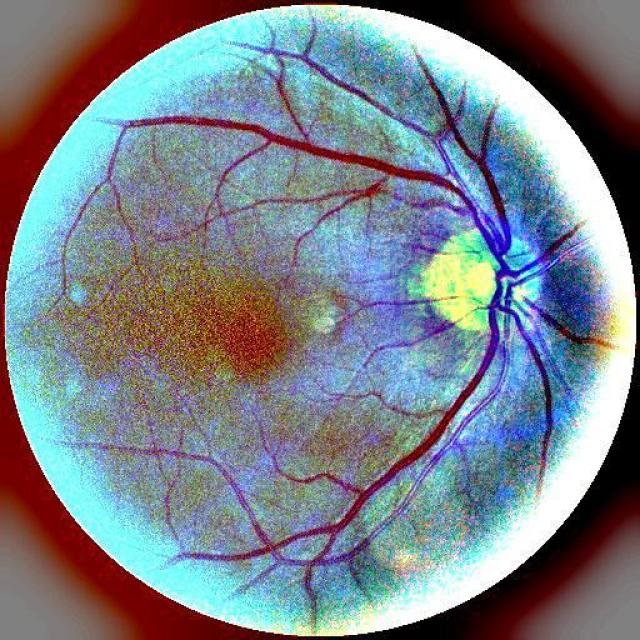Macula: (204, 295, 285, 375)
Optic Disk: (410, 232, 542, 330), (410, 234, 531, 330)
